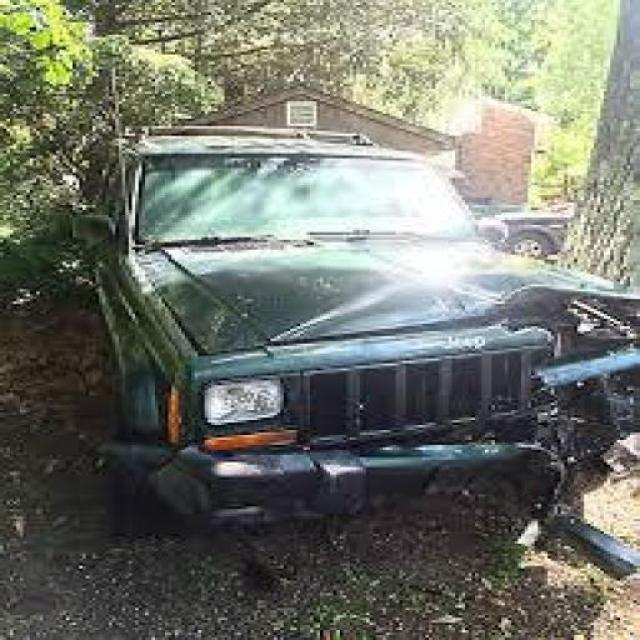crush: (362, 281, 636, 588)
